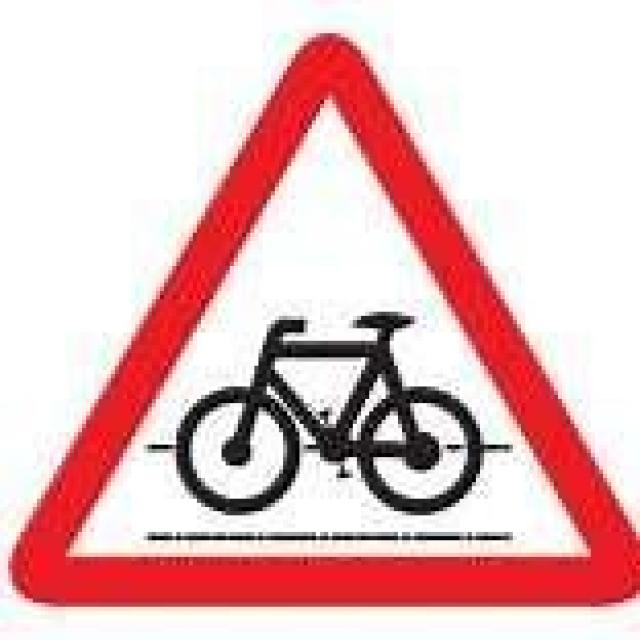CYCLE_CROSSING: (8, 29, 636, 603)
